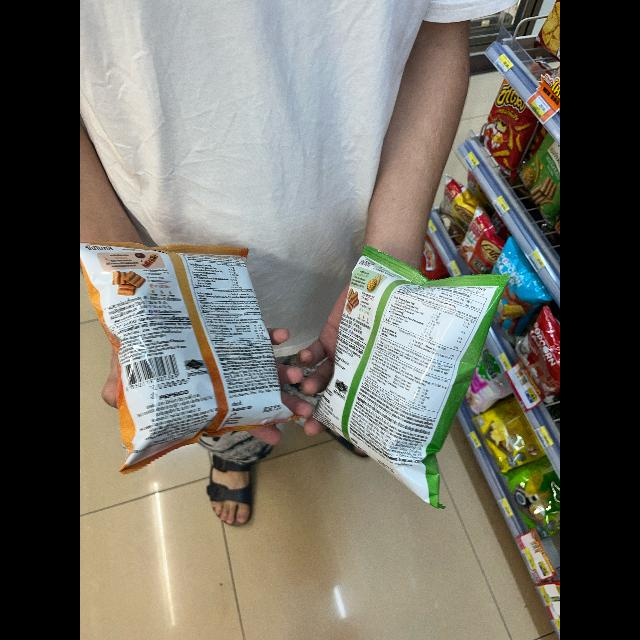snack_bag: (293, 242, 523, 504), (80, 231, 302, 464)
